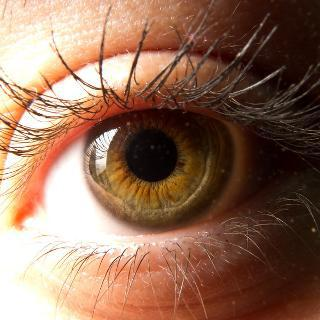pupil: (124, 128, 179, 183)
